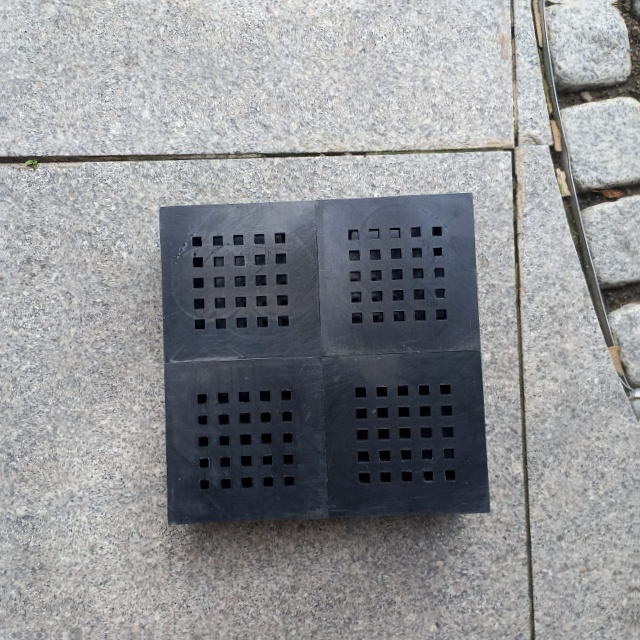pallet: (158, 179, 494, 534)
